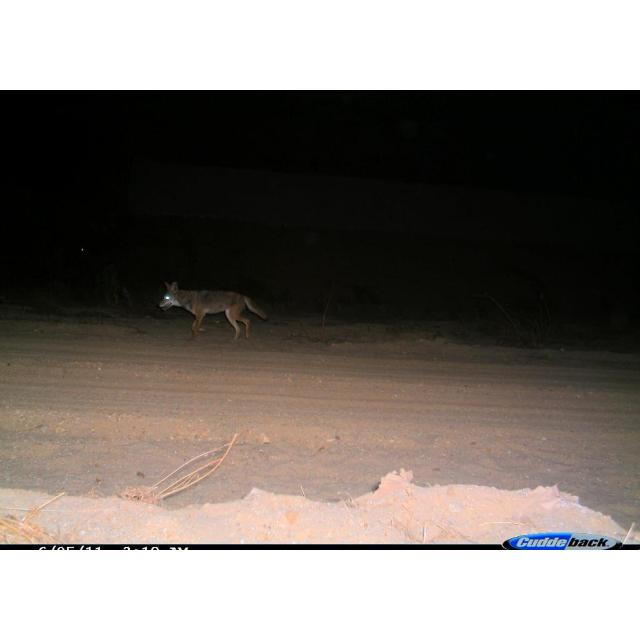animals: (158, 280, 268, 346)
